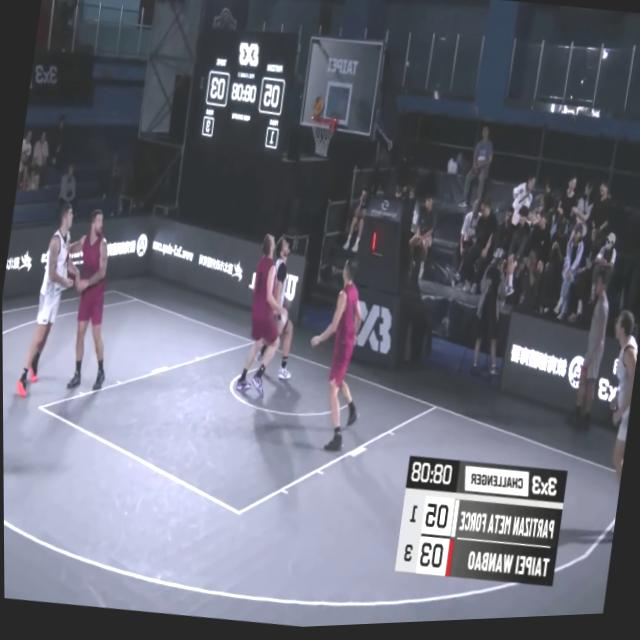ball: (309, 98, 326, 123)
hoop: (307, 117, 338, 166)
player: (8, 183, 93, 412), (292, 247, 381, 461), (54, 199, 132, 395), (584, 302, 640, 551), (228, 225, 294, 410), (250, 232, 309, 389)
